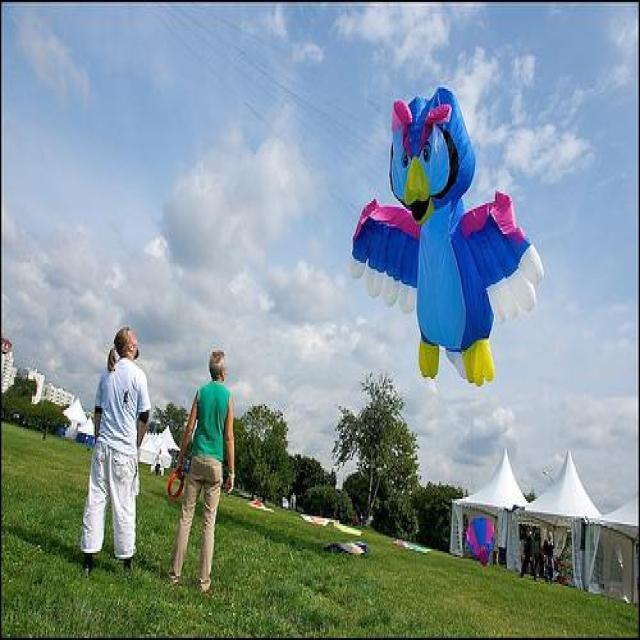obstacle: (72, 319, 154, 570), (166, 346, 233, 594), (516, 522, 536, 578)
